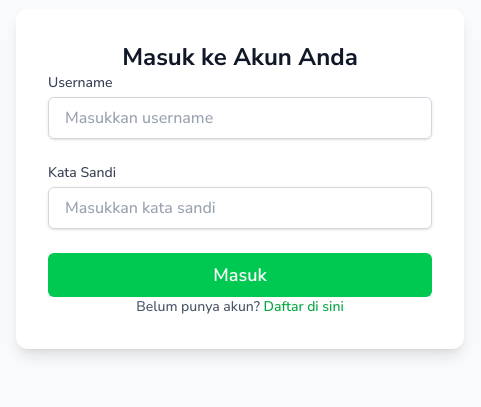
Login Component › Isi form dan login berhasil
Type "ruthiana" into the field labelled "Username" at (240, 118), box x1=48 y1=97 x2=432 y2=139
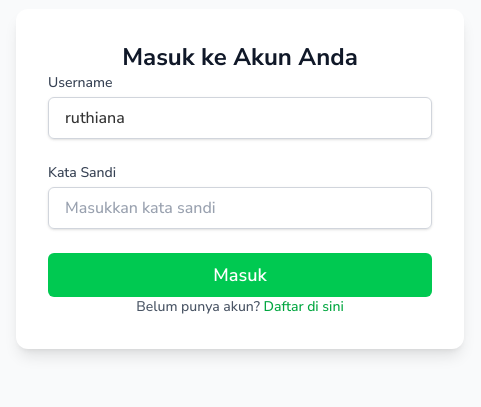
Type "12345" into the password field labelled "Kata Sandi" at (240, 208), box x1=48 y1=187 x2=432 y2=229
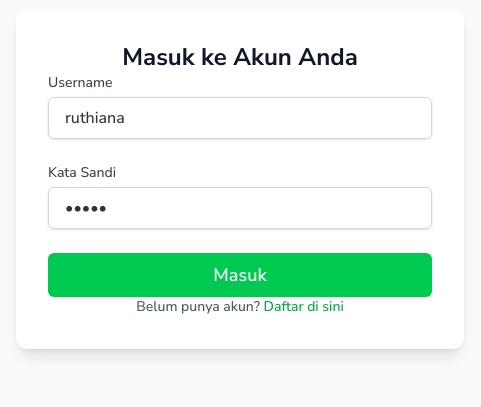
Click the button "Masuk" at (240, 275), box x1=48 y1=253 x2=432 y2=297
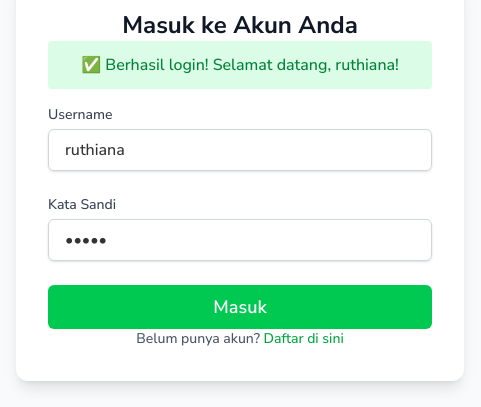
Now the text "✅ Berhasil login! Selamat datang, ruthiana!" is shown, box x1=48 y1=41 x2=432 y2=89
